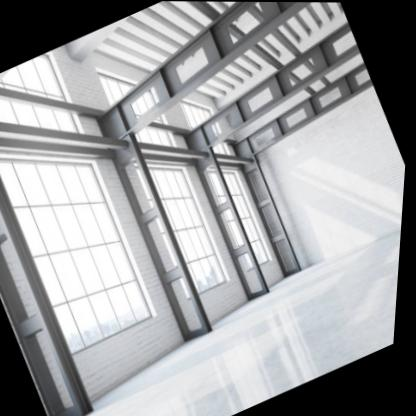Window: (0, 148, 160, 353), (142, 170, 230, 299), (209, 170, 274, 263)
